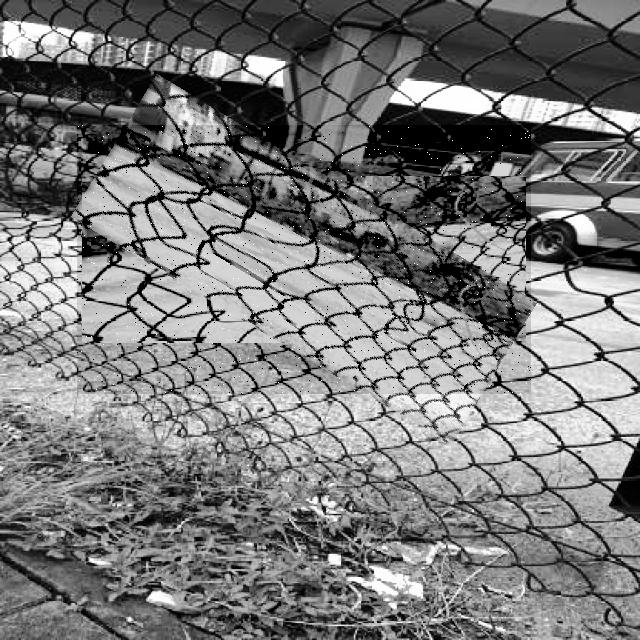anomaly-fence: (77, 125, 531, 394)
